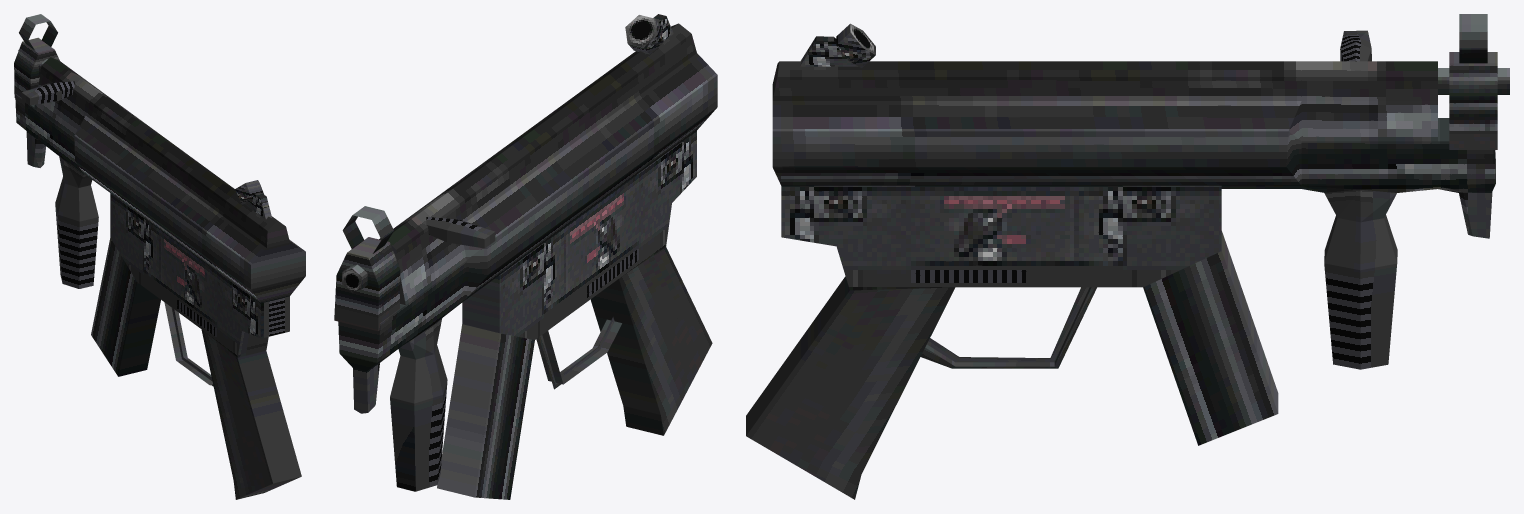
Rendered from recovered_gun_hk5k.glb.
3 views of the same model, side by side, from view 1: azimuth 30°, elevation 25°; view 2: azimuth 150°, elevation 25°; view 3: azimuth 270°, elevation 25° (orthographic). The views are drawn at different scales.
Visible parts, largest first — view 1: Gun_0714c50f9222; view 2: Gun_0714c50f9222, Gun_379f7b5fa02f; view 3: Gun_0714c50f9222.
Part boxes in pixels (left/top/right/bottom): Gun_0714c50f9222: left=14, top=14, right=305, bottom=499; Gun_0714c50f9222: left=334, top=14, right=717, bottom=499; Gun_379f7b5fa02f: left=342, top=15, right=657, bottom=292; Gun_0714c50f9222: left=746, top=14, right=1509, bottom=499.
Size of the model in its own units: 0.0559 by 0.2139 by 0.3148.
Materials: 2 (2 with a texture image).
